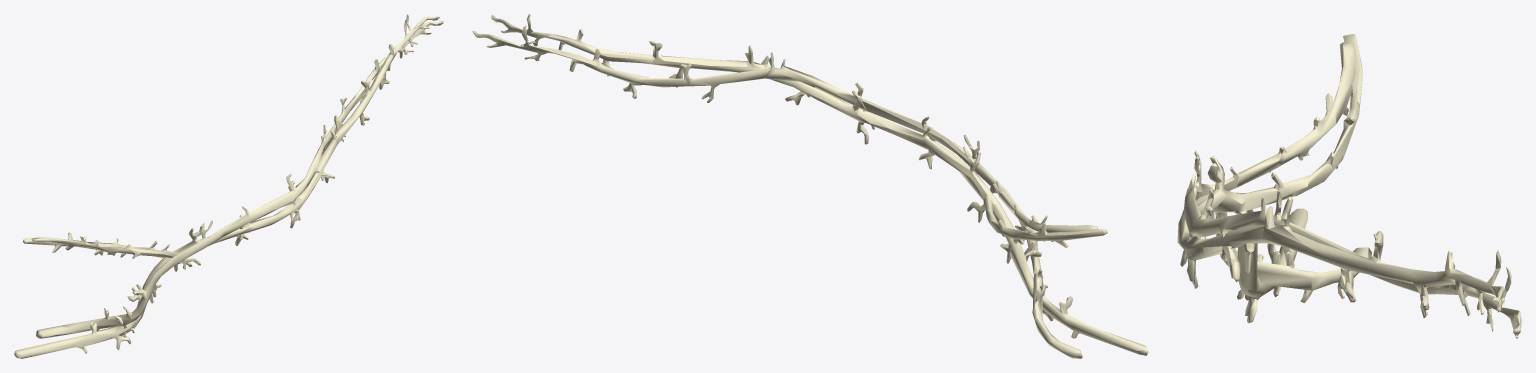
File: pancreatic_ducts.glb
The picture shows the model from 3 angles, left to right: view 1: azimuth 30°, elevation 25°; view 2: azimuth 150°, elevation 25°; view 3: azimuth 270°, elevation 25°; orthographic projection. The views are drawn at different scales.
Visible parts, largest first — view 1: FJ2630_Pancreatic_duct_tree, FJ1896_Pancreatic_duct; view 2: FJ2630_Pancreatic_duct_tree, FJ1896_Pancreatic_duct; view 3: FJ2630_Pancreatic_duct_tree, FJ1896_Pancreatic_duct.
Part boxes in pixels (x1,y1,x2,y2): FJ2630_Pancreatic_duct_tree: (14,14,439,358); FJ1896_Pancreatic_duct: (31,20,443,338); FJ2630_Pancreatic_duct_tree: (491,14,1148,355); FJ1896_Pancreatic_duct: (472,25,1097,358); FJ2630_Pancreatic_duct_tree: (1177,34,1503,323); FJ1896_Pancreatic_duct: (1180,42,1521,338).
Bounding box in the file's own units: 0.1182 × 0.0484 × 0.0364.
